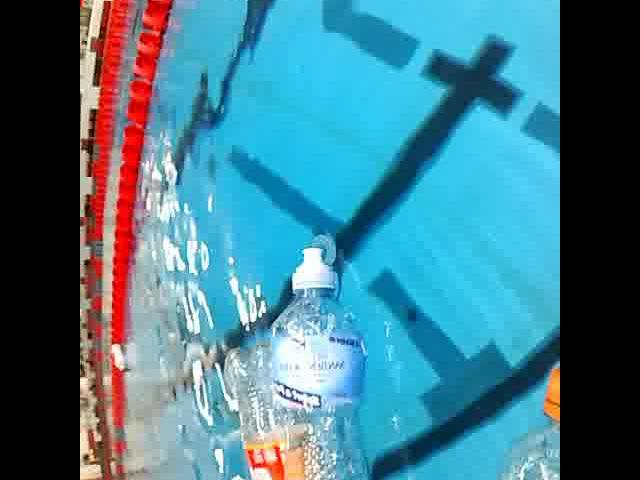Bottle: (276, 236, 375, 480), (438, 335, 560, 480), (219, 330, 314, 480)
